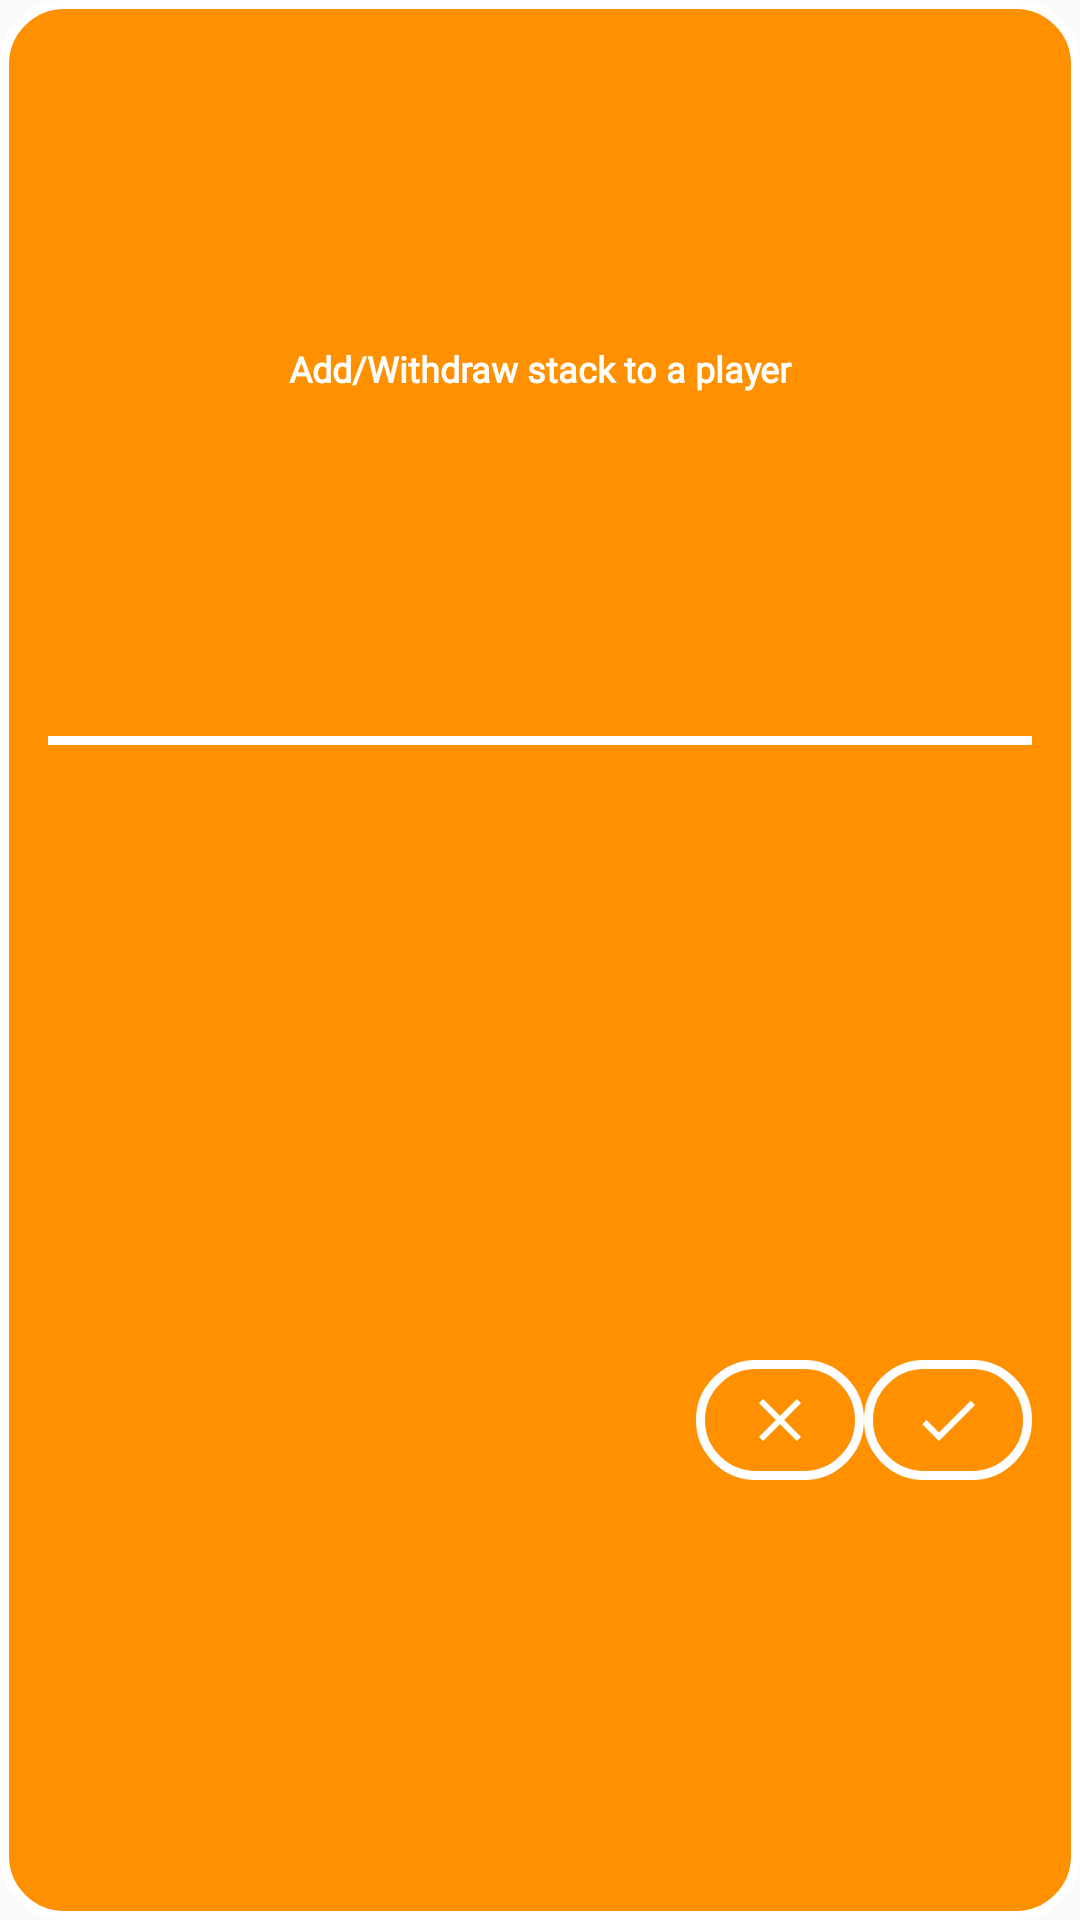

Locate icon controls on the screen. Image size 1080×1920, boxes as (x1, y1, x2, y2).
check: (864, 1360, 1032, 1480)
close: (696, 1360, 864, 1480)
